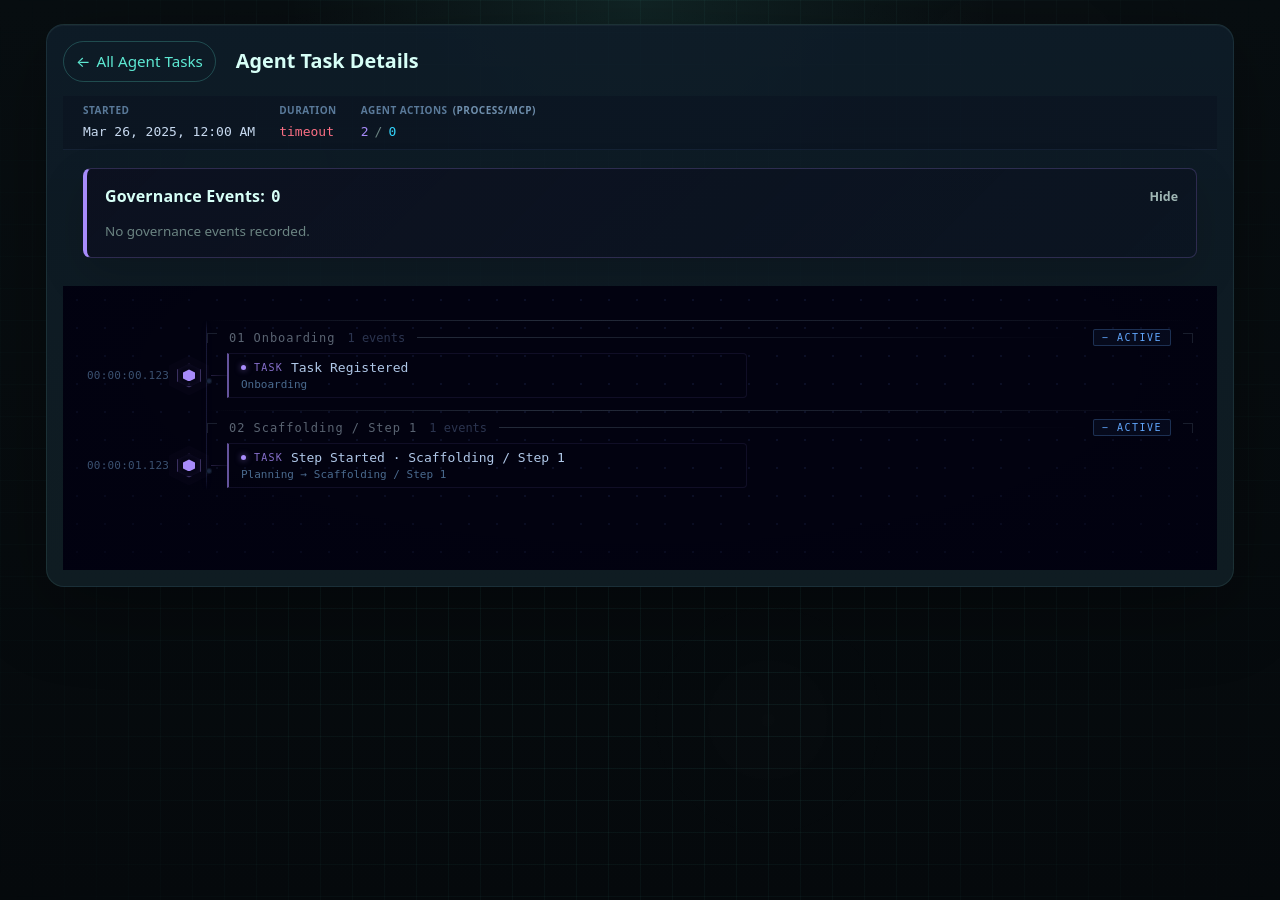
Test: task run detail › shows success for successful start events in the inspector even while the run stays active
This screenshot has width=1280, height=900.
Expected: the heading "Agent Task Details" is shown, [236,50,419,72]
Click the button with aria-label "show event details for step started" at (640, 466), box [87,440,1193,490]
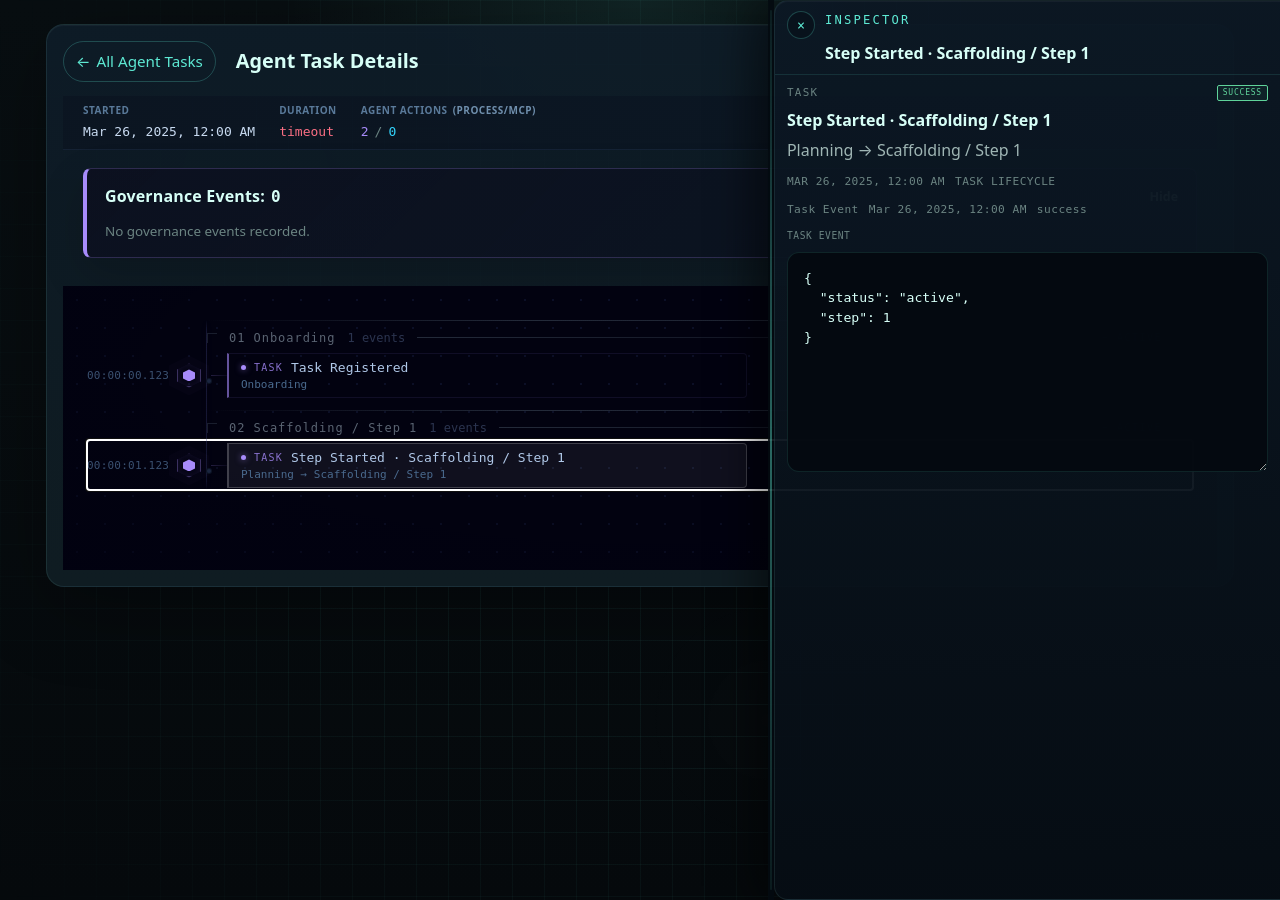
Expected: the text "Inspector" is shown, [825,13,910,27]
Expected: the 1st text "success" is shown, [1217,85,1268,101]
